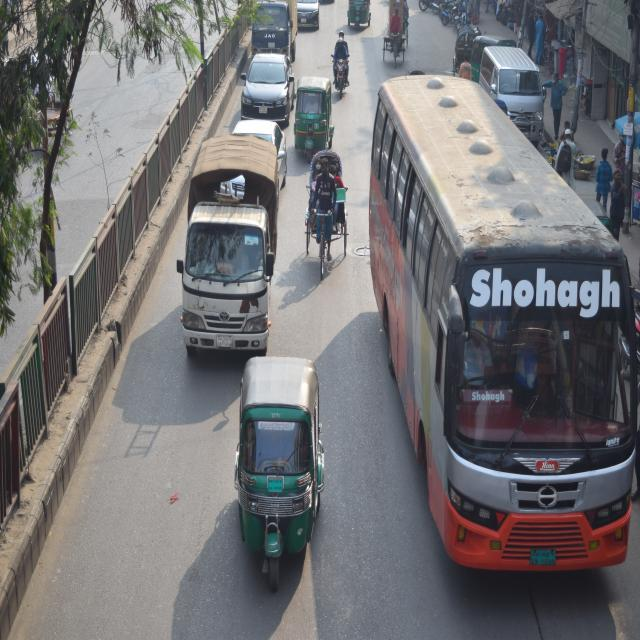bus: (358, 72, 640, 575)
car: (242, 49, 294, 125)
microbus: (483, 46, 553, 129)
motorbike: (330, 30, 355, 119)
pickup-van: (173, 129, 282, 367), (252, 8, 301, 76)
